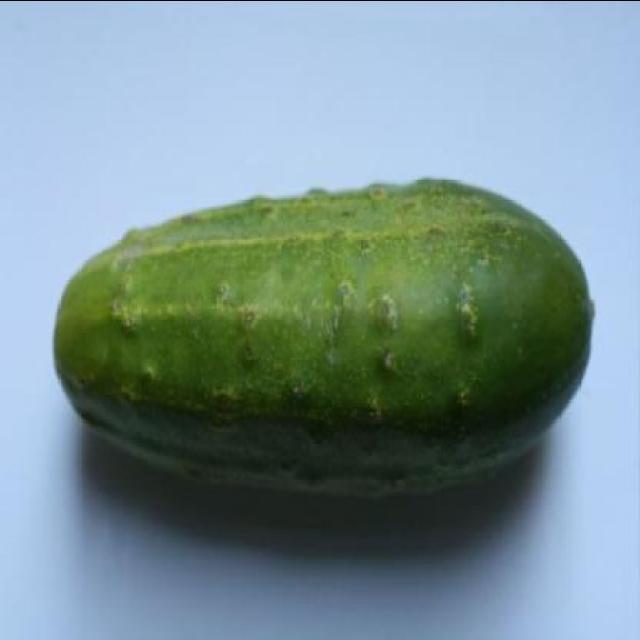Cucumber: (51, 174, 595, 506)
